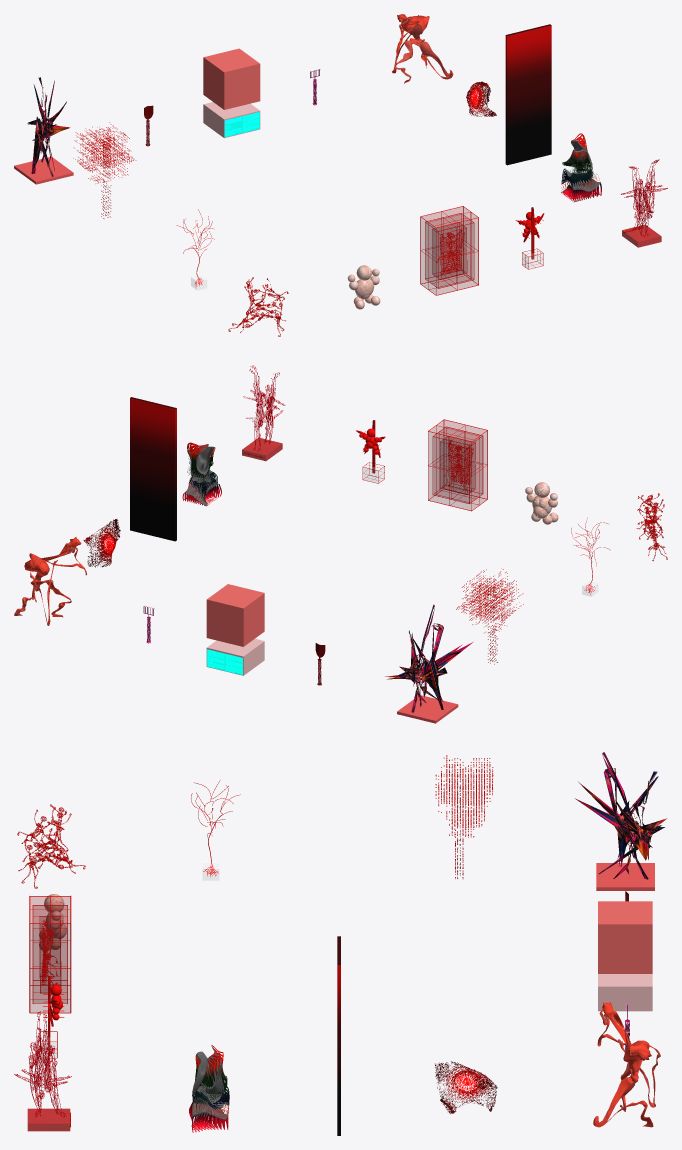
3 renders of one model, top to bottom at view 1: azimuth 30°, elevation 25°; view 2: azimuth 150°, elevation 25°; view 3: azimuth 270°, elevation 25°, orthographic. The views are drawn at different scales.
Visible parts, largest first — view 1: 2002-OG, Mesh_2047_1, Mesh_2047, Mesh_0032, Mesh_4015, LEGEND-RED, CROOKEDASWEFUNASYU-RED, Mesh_1083, MYSTIC-BRED, Mesh_2039, Mesh_1074_1, Mesh_1083_1 (+3 smaller); view 2: 2002-OG, Mesh_2047_1, Mesh_2047, LEGEND-RED, Mesh_0032, Mesh_4015, CROOKEDASWEFUNASYU-RED, MYSTIC-BRED, Mesh_1083, Mesh_2039, RED, Mesh_1074_1 (+3 smaller); view 3: Mesh_2047_1, LEGEND-RED, Mesh_2047, Mesh_0032, Mesh_4015, CROOKEDASWEFUNASYU-RED, Mesh_2039, RED, Mesh_1083, Mesh_1083_1, Mesh_265002, MYSTIC-BRED (+2 smaller).
Part boxes in pixels (x1,y1,x2,y2): 2002-OG: (505,24,551,165); Mesh_2047_1: (73,122,667,336); Mesh_2047: (421,207,478,294); Mesh_0032: (203,48,260,109); Mesh_4015: (426,215,473,287); LEGEND-RED: (14,77,73,184); CROOKEDASWEFUNASYU-RED: (392,14,453,83); Mesh_1083: (561,133,601,202); MYSTIC-BRED: (432,222,467,279); Mesh_2039: (203,102,260,138); Mesh_1074_1: (347,265,380,309); Mesh_1083_1: (561,140,600,192); 2002-OG: (130,397,176,541); Mesh_2047_1: (243,365,667,664); Mesh_2047: (428,420,487,509); LEGEND-RED: (385,604,472,723); Mesh_0032: (206,584,264,646); Mesh_4015: (433,427,482,502); CROOKEDASWEFUNASYU-RED: (14,537,86,625); MYSTIC-BRED: (440,436,475,494); Mesh_1083: (182,442,221,505); Mesh_2039: (206,638,264,675); RED: (83,519,120,567); Mesh_1074_1: (525,482,558,524); Mesh_2047_1: (14,755,493,1127); LEGEND-RED: (575,752,667,890); Mesh_2047: (30,896,69,1012); Mesh_0032: (598,901,652,973); Mesh_4015: (34,906,66,1002); CROOKEDASWEFUNASYU-RED: (593,1002,660,1127); Mesh_2039: (598,974,652,1011); RED: (435,1061,497,1114); Mesh_1083: (189,1045,229,1132); Mesh_1083_1: (192,1045,229,1119); Mesh_265002: (27,1108,70,1131); MYSTIC-BRED: (39,915,61,993).
Bounding box in the file's own units: 41.43 × 12.05 × 41.61.
20 materials, 16 textured.
